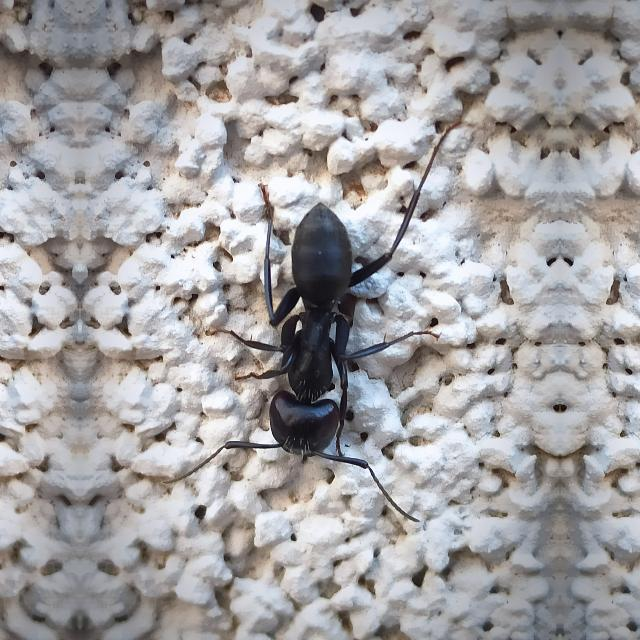Camponotus: (159, 133, 455, 512)
